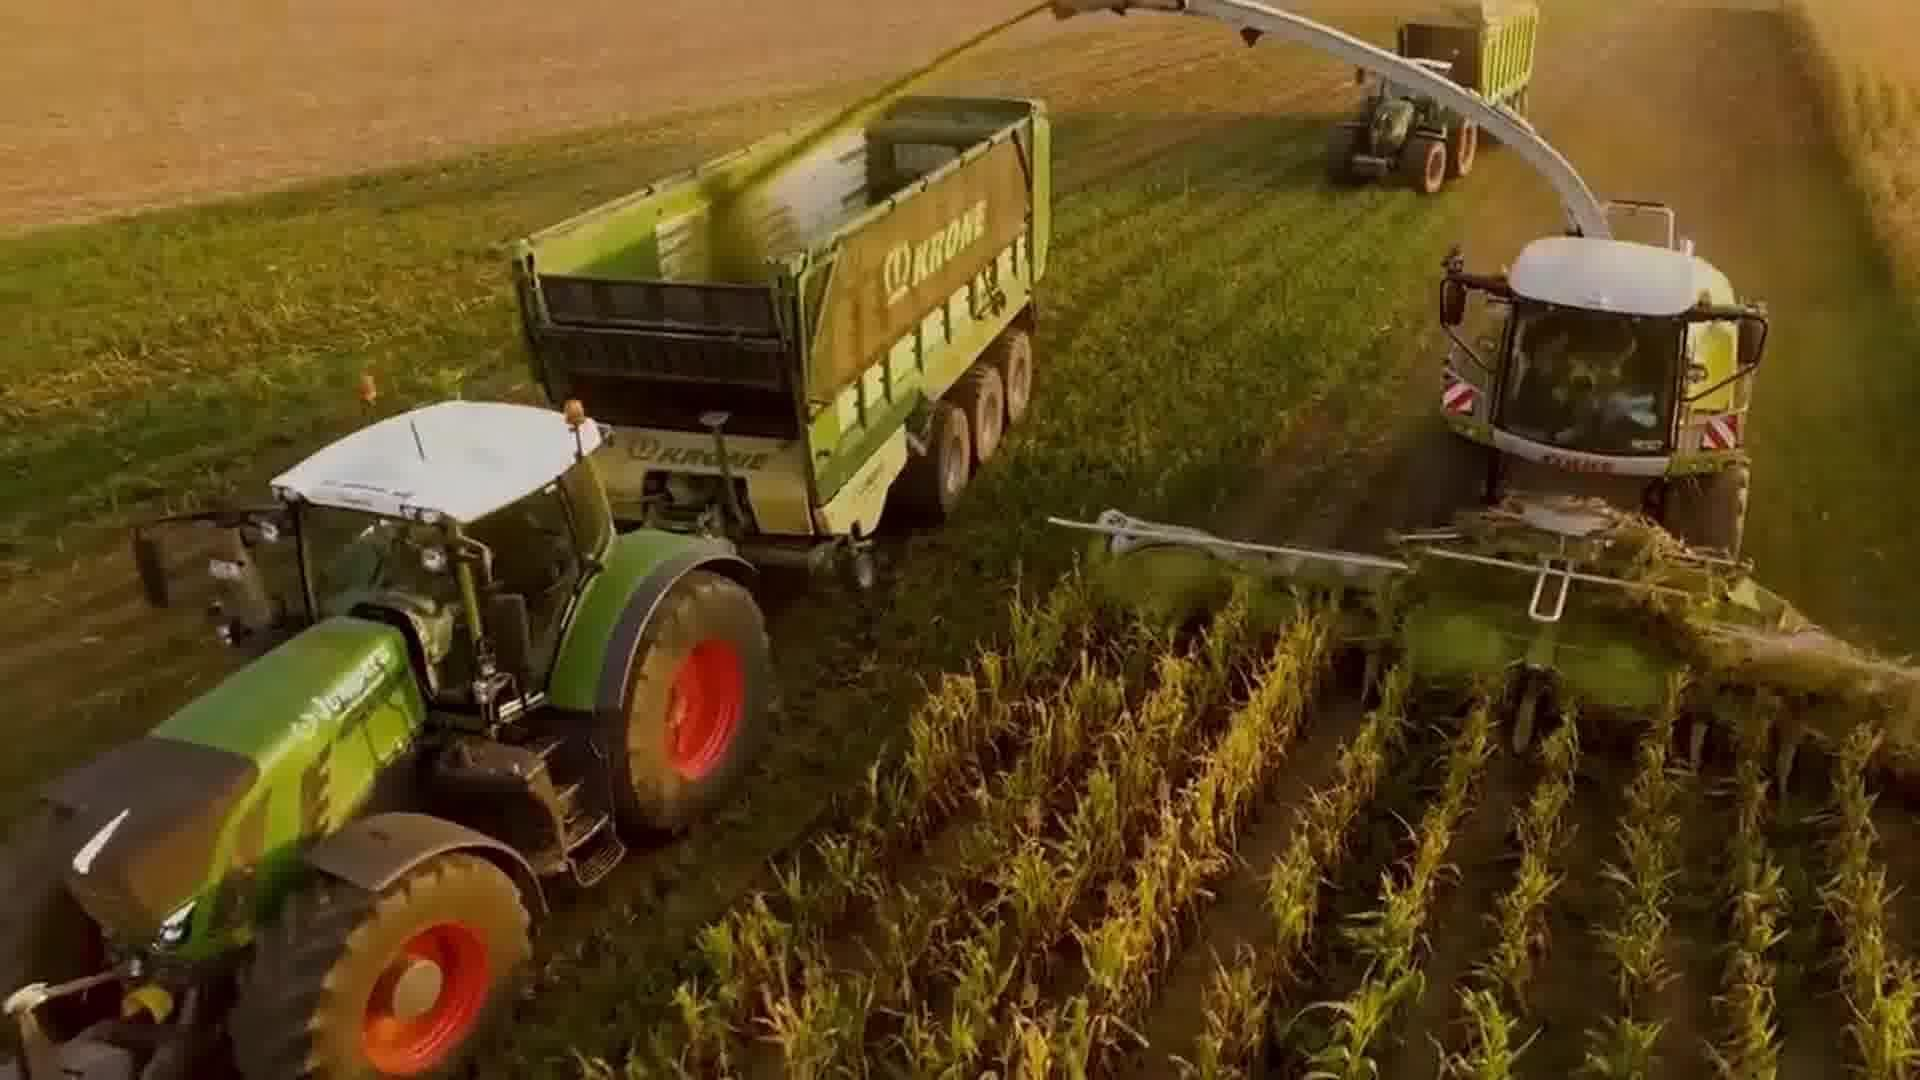combine harvester: (1044, 0, 1920, 807)
tractor: (0, 371, 789, 1080), (1319, 49, 1482, 202)
trailer: (491, 74, 1065, 576), (1389, 0, 1544, 142)
